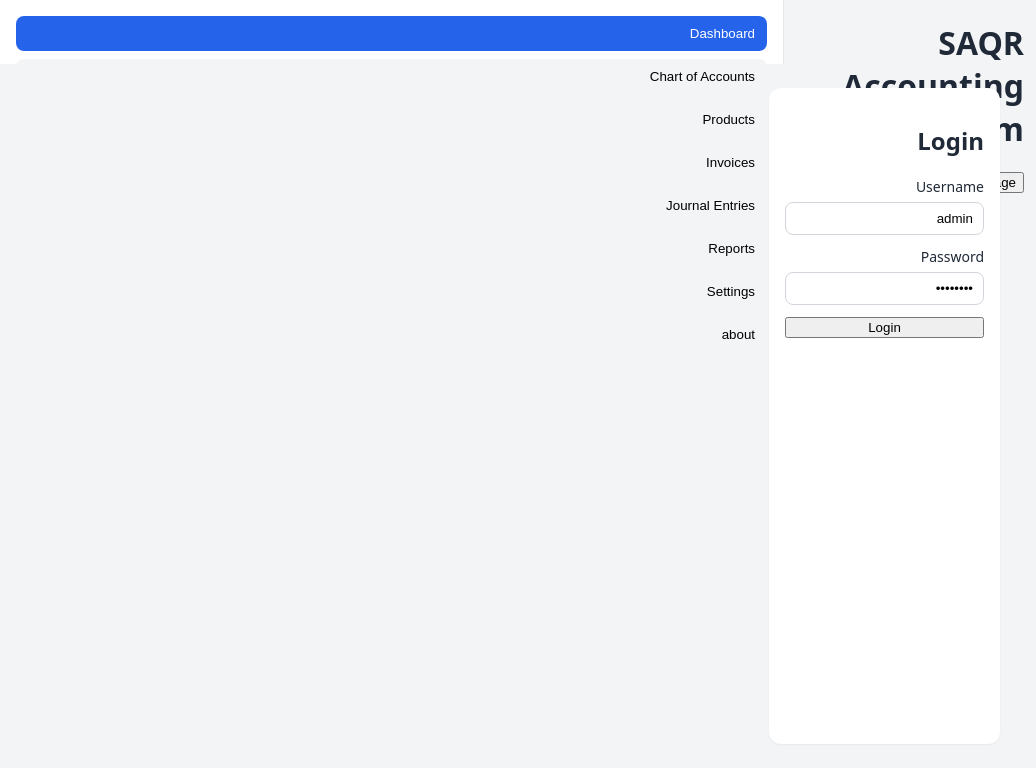
App Component › Login Form › submits login form and handles successful login
What coordinates should you click on to do the following:
click the button "Login"
I would click on:
 (884, 327)
Its box is [785,317,984,338].
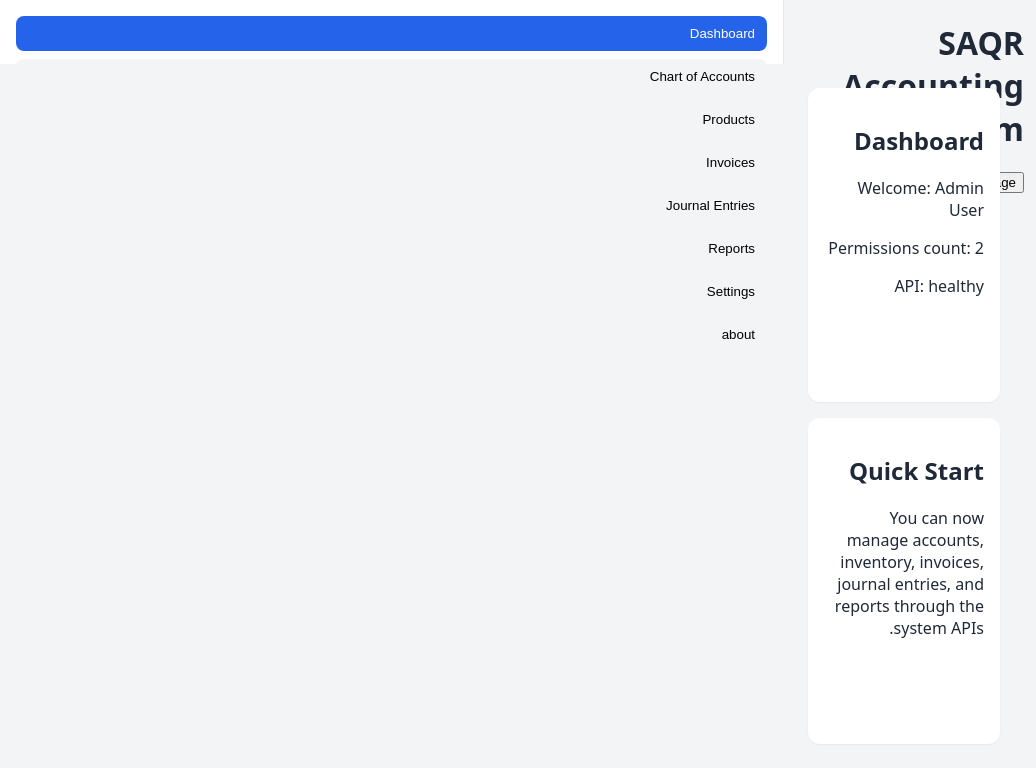
Expected: the text "Welcome: Admin User" is shown, [857,177,984,221]
